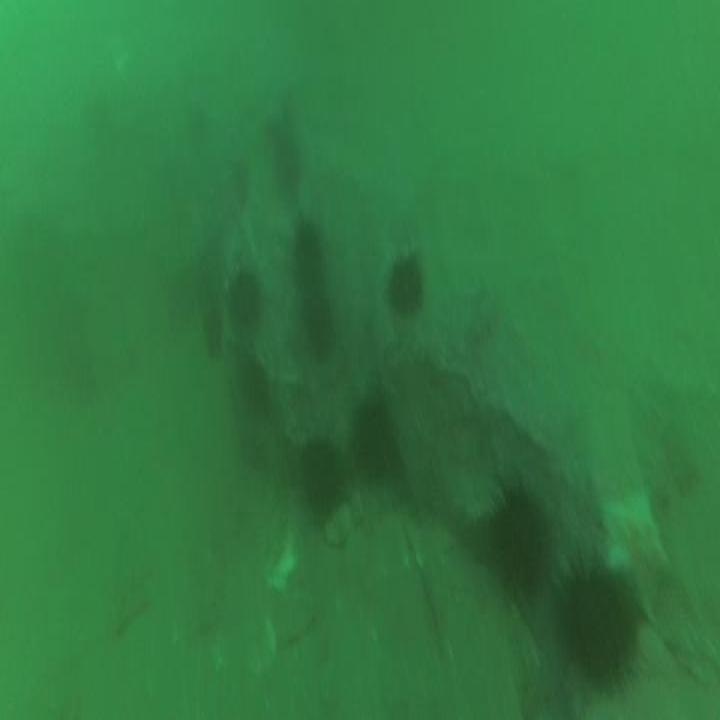echinus: (545, 535, 647, 704), (480, 470, 557, 606), (293, 425, 347, 528), (290, 288, 344, 373), (382, 238, 430, 331), (352, 390, 400, 483), (286, 212, 338, 282), (224, 261, 267, 338), (266, 128, 308, 203)
starfish: (604, 480, 676, 626)
